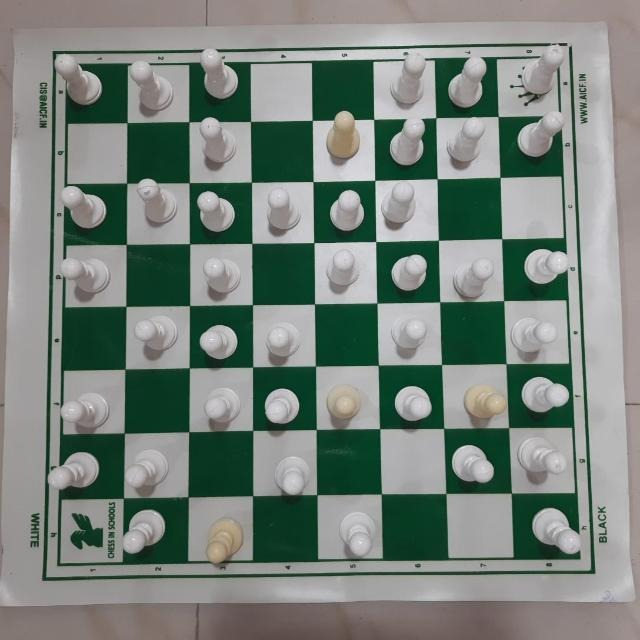white-pawn: (528, 506, 586, 558), (53, 54, 108, 108), (519, 43, 566, 103), (129, 59, 179, 114), (514, 109, 566, 160), (48, 447, 102, 496), (196, 48, 242, 104), (387, 51, 431, 108), (57, 186, 107, 236), (194, 116, 240, 170), (516, 433, 568, 480), (123, 446, 173, 492), (121, 506, 167, 556), (447, 56, 491, 108), (59, 252, 111, 296), (518, 373, 570, 417), (133, 178, 178, 228), (202, 518, 247, 568), (444, 115, 487, 166), (59, 388, 111, 430), (388, 115, 430, 166), (449, 256, 497, 300), (460, 378, 508, 422), (449, 444, 499, 486), (323, 109, 363, 161), (519, 246, 570, 286), (260, 186, 303, 233), (195, 186, 237, 234), (510, 311, 558, 353), (337, 511, 378, 559), (132, 313, 181, 352), (325, 380, 367, 424), (270, 453, 312, 497), (327, 188, 367, 234), (200, 255, 242, 298), (391, 380, 435, 421), (379, 180, 419, 224), (262, 319, 306, 359), (389, 252, 431, 293), (389, 311, 432, 351), (198, 320, 240, 360), (203, 383, 243, 424), (323, 249, 363, 289), (262, 386, 300, 426)
